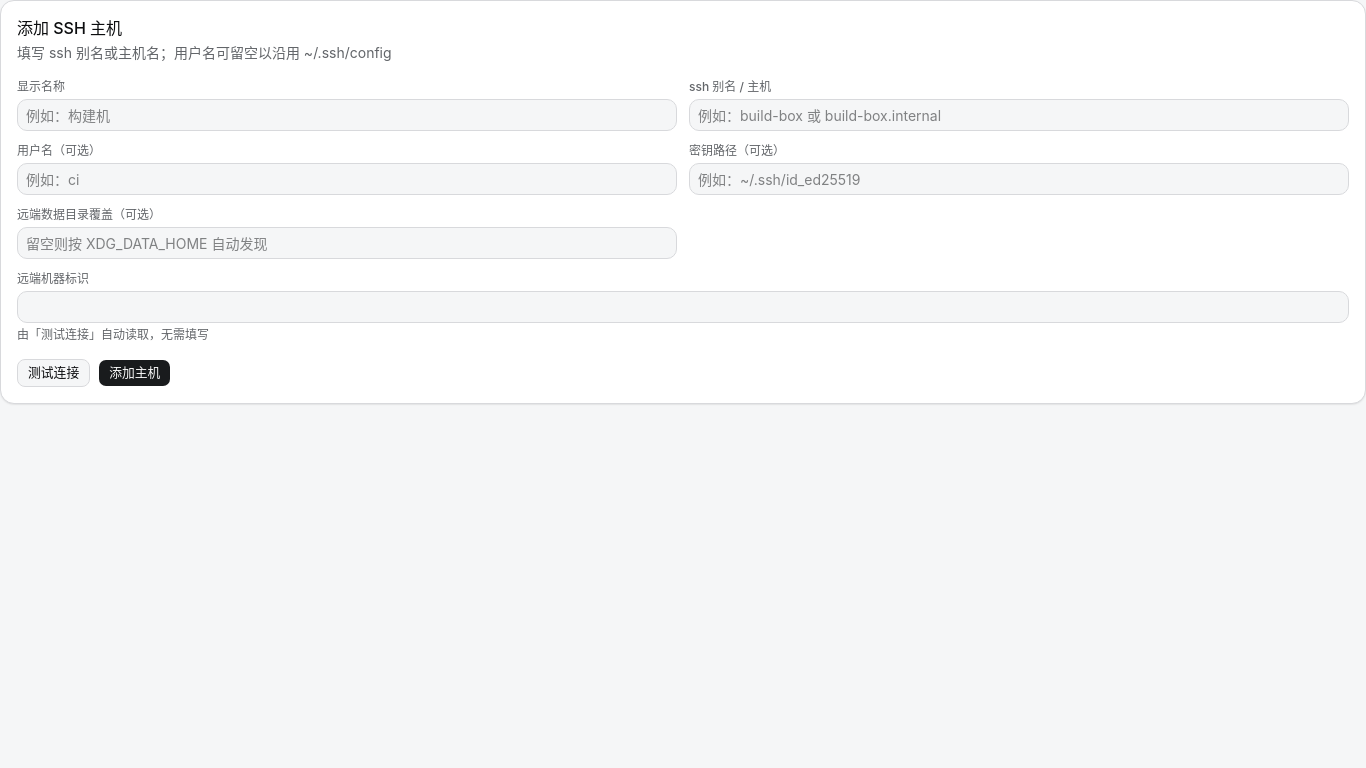
Scenario: AddSshHostForm SSH probe › renders the typed timeout and process-tree remediation
The image size is (1366, 768).
Type "build-box" into the field with test id "add-host-target" at coordinates (1019, 115), box [689,99,1349,131]
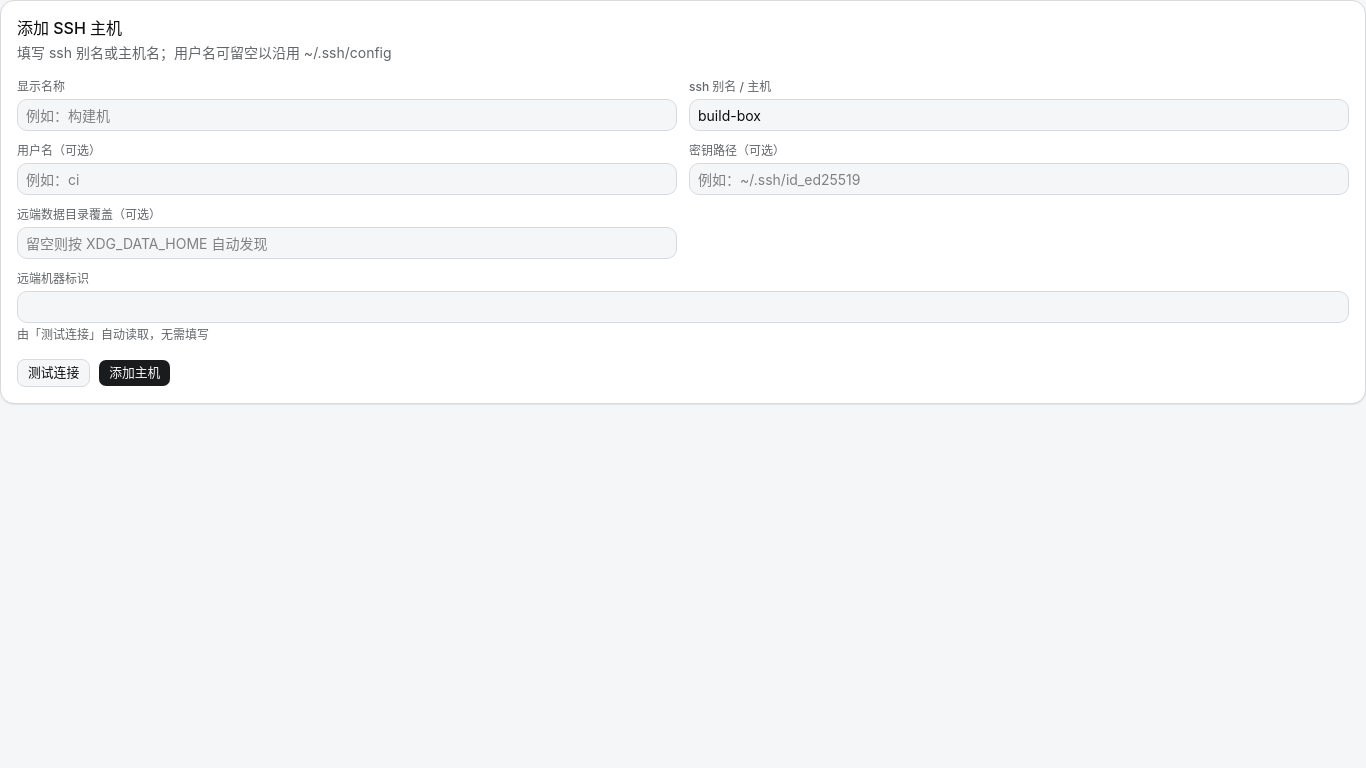
Click the button with test id "add-host-test" at coordinates (54, 373), box [17,359,90,387]
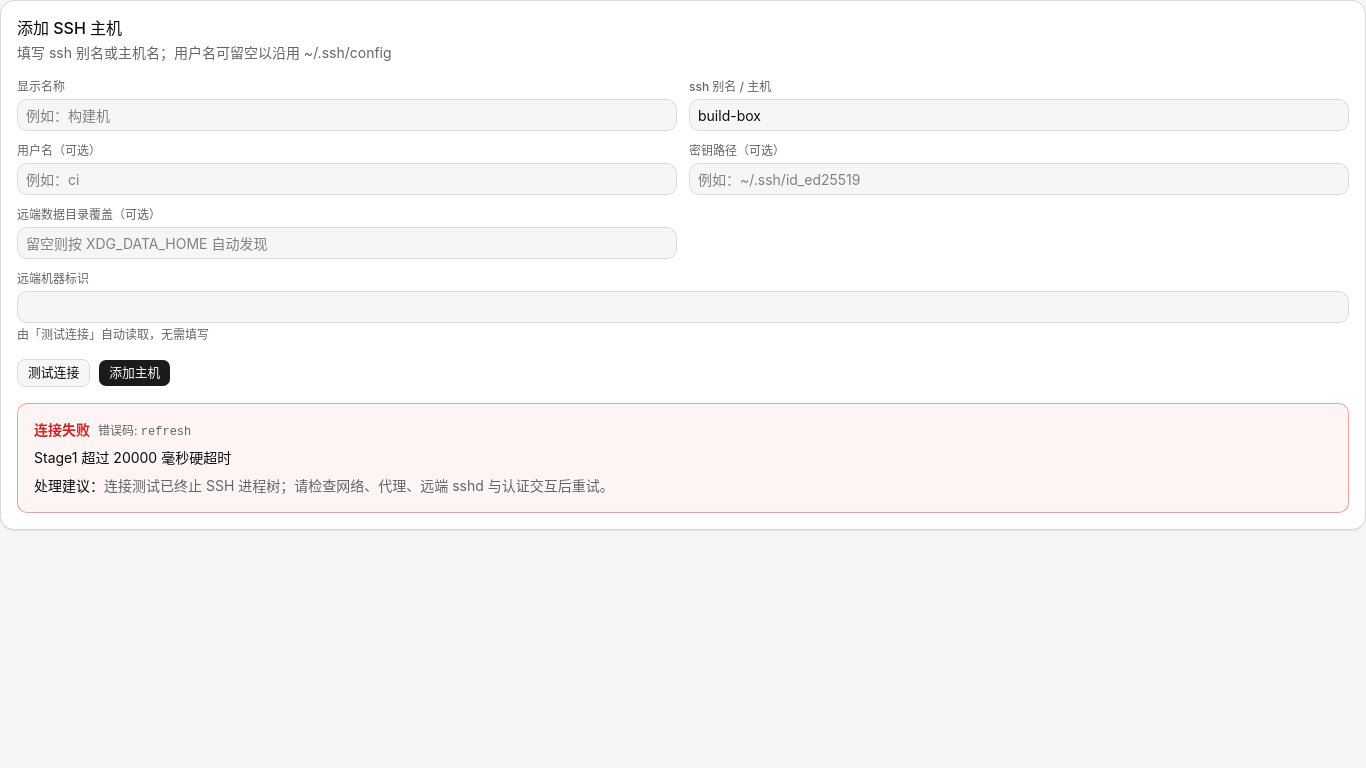
Check: the text with test id "probe-error-code" reads "refresh", box [141,425,191,439]
Check: the text with test id "probe-error-message" shows "20000 毫秒硬超时", box [34,449,231,466]
Check: the text with test id "probe-error-remediation" shows "已终止 SSH 进程树", box [104,477,614,494]
